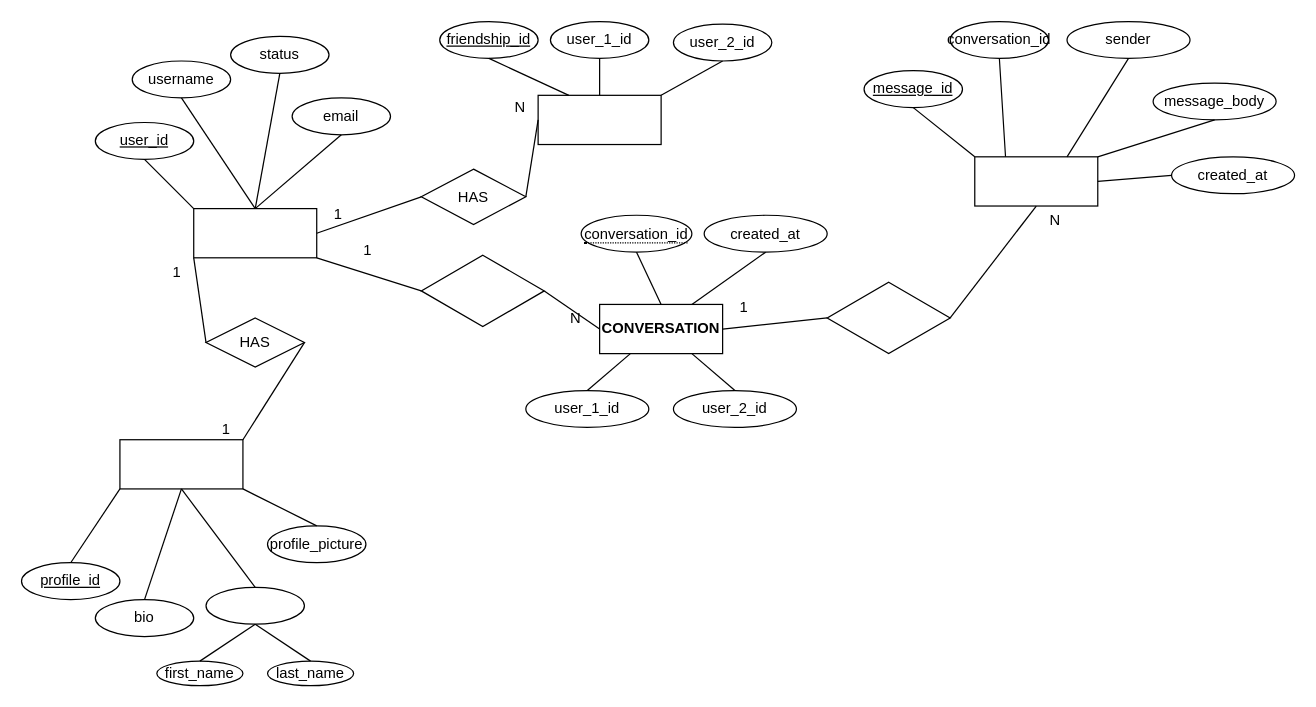
Image size: 1316x707. Some labels were removed from this diagram. The shapes that lost their labels are listed below. From the top down, each one's centre as x and y in pixels, then its label:
the point at 599,119: FRIENDSHIP
the point at 1036,181: MESSAGE
the point at 254,232: USER
the point at 482,290: PARTICIPATES
the point at 888,317: CONTAINS
the point at 181,463: PROFILE
the point at 254,605: name
